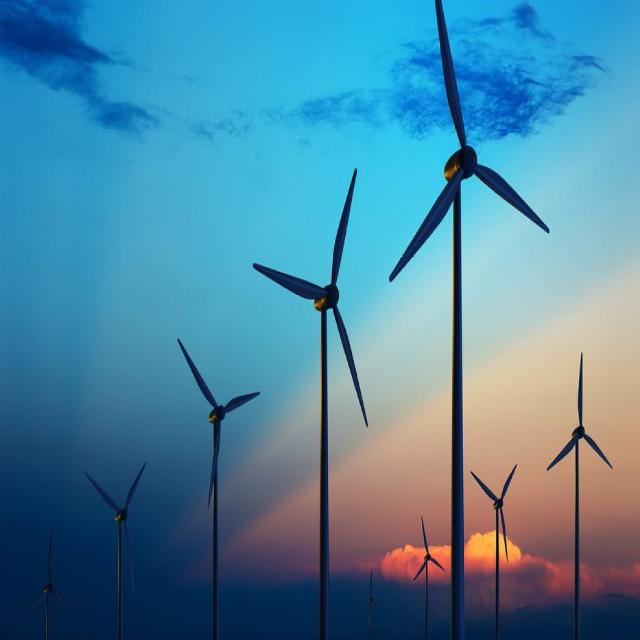solid-blade: (389, 169, 464, 281), (475, 164, 549, 232), (436, 0, 466, 146), (332, 304, 368, 425), (331, 169, 356, 283), (254, 264, 328, 300), (178, 341, 216, 408), (225, 392, 260, 412)
wind-turbine: (389, 0, 549, 639), (254, 169, 368, 639), (178, 340, 259, 639), (548, 353, 612, 639), (85, 462, 146, 639), (471, 464, 516, 639), (28, 529, 71, 639), (412, 515, 445, 639)
